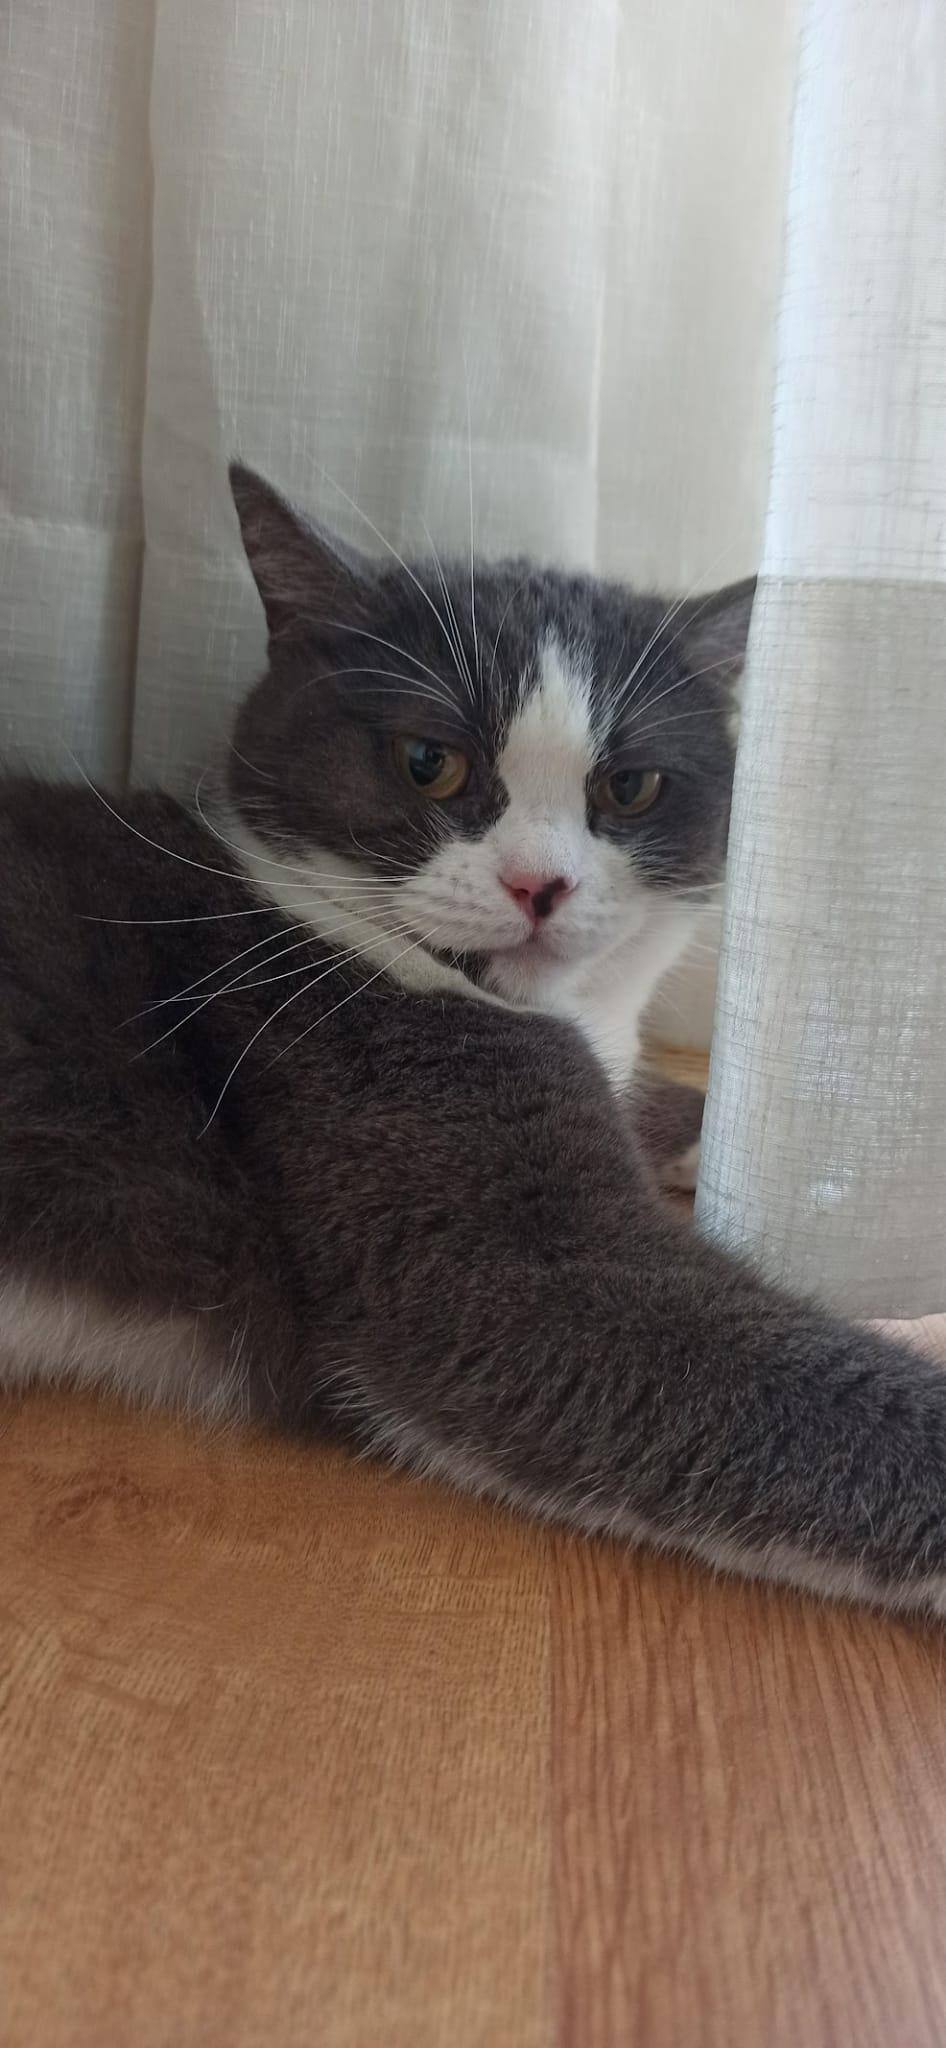kedo: (0, 461, 946, 1605)
